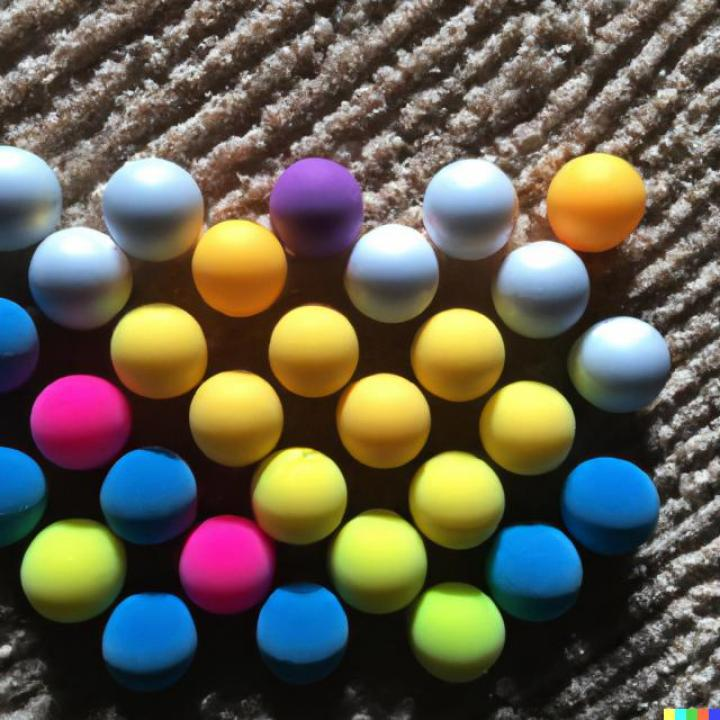white: (101, 157, 205, 261), (29, 227, 132, 332), (564, 316, 672, 415), (424, 159, 521, 259), (492, 240, 588, 338), (346, 226, 439, 324)
